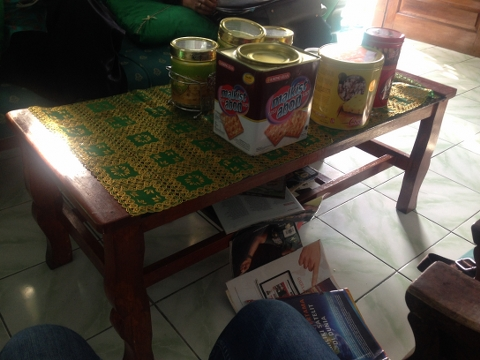meja: (6, 45, 457, 360)
